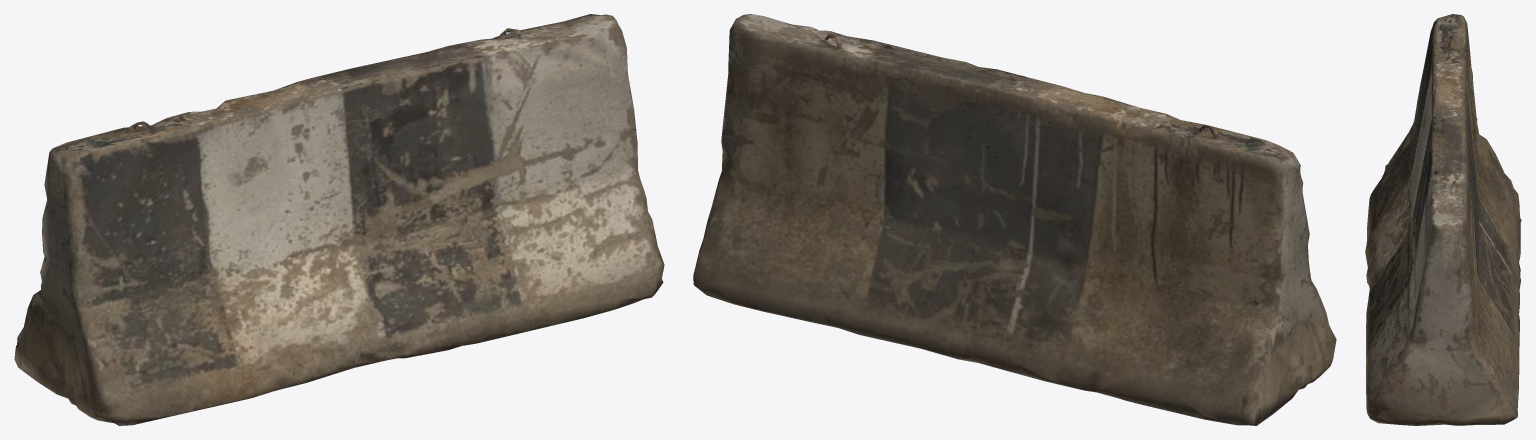
The model's file is jersey.glb.
3 renders of one model, left to right at view 1: azimuth 30°, elevation 25°; view 2: azimuth 150°, elevation 25°; view 3: azimuth 270°, elevation 25°, orthographic. The views are drawn at different scales.
Parts seen in each view (by area): view 1: concrete_road_barrier; view 2: concrete_road_barrier; view 3: concrete_road_barrier.
Part boxes in pixels (x1,y1,x2,y2): concrete_road_barrier: (14, 14, 664, 425); concrete_road_barrier: (693, 14, 1336, 425); concrete_road_barrier: (1365, 14, 1521, 425).
Size of the model in its own units: 2.4 by 1.05 by 0.7201.
Materials: 1 (1 with a texture image).
